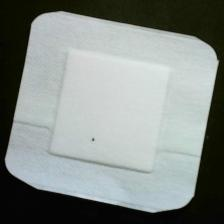Dressing: (5, 10, 221, 215)
F_Body: (81, 132, 102, 150)
